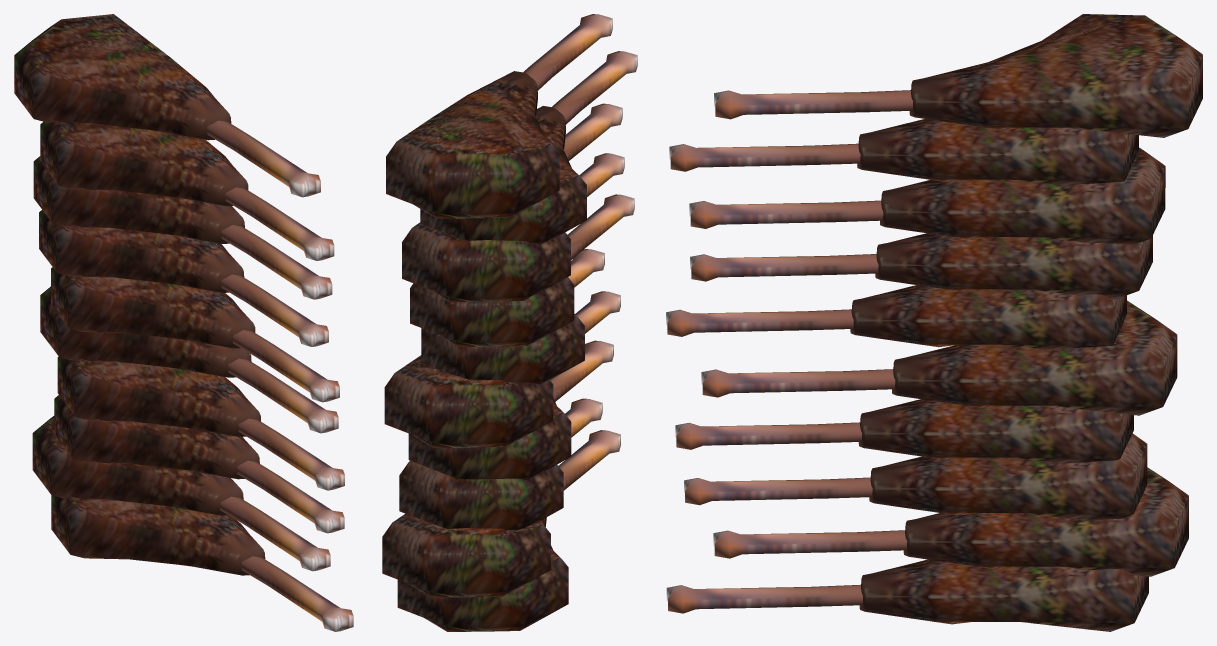
Rendered from MeatStack_CookedLamb.glb.
3 renders of one model, left to right at view 1: azimuth 30°, elevation 25°; view 2: azimuth 150°, elevation 25°; view 3: azimuth 270°, elevation 25°, orthographic. The views are drawn at different scales.
Parts seen in each view (by area): view 1: MeatStack_CookedLamb; view 2: MeatStack_CookedLamb; view 3: MeatStack_CookedLamb.
Part boxes in pixels (x1=…): MeatStack_CookedLamb: x1=14, y1=14, x2=353, y2=631; MeatStack_CookedLamb: x1=382, y1=14, x2=637, y2=631; MeatStack_CookedLamb: x1=666, y1=14, x2=1202, y2=631.
Bounding box in the file's own units: 0.2008 × 0.6284 × 0.5471.
1 material, 1 textured.
